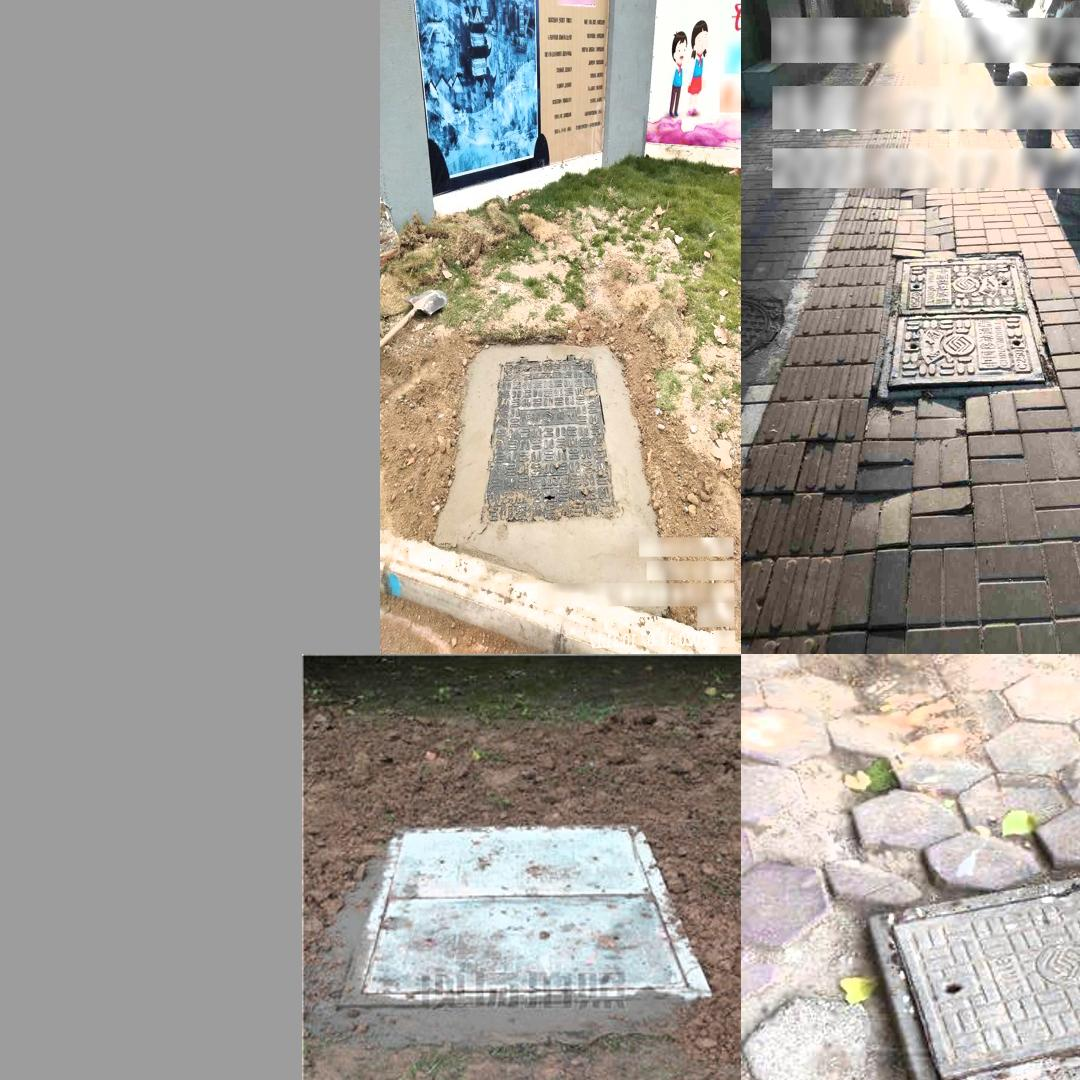good: (388, 811, 688, 994), (872, 857, 1080, 1080), (875, 256, 1054, 396), (475, 355, 618, 527)
